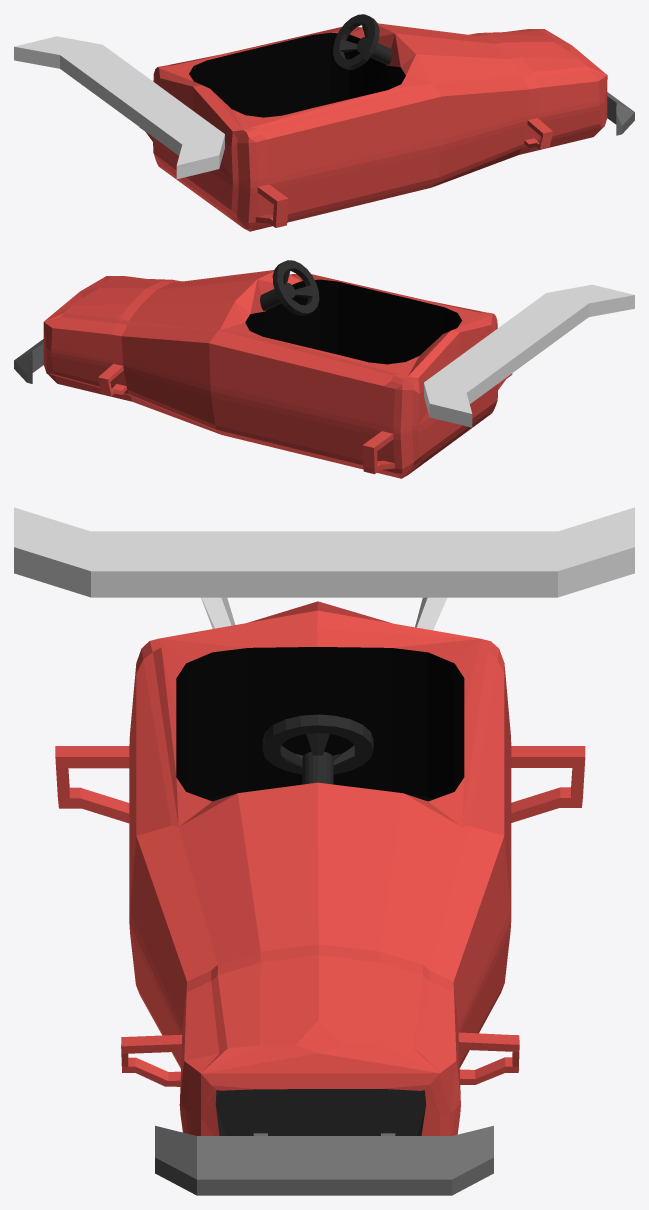
File: GoKart.fbx
3 renders of one model, top to bottom at view 1: azimuth 30°, elevation 25°; view 2: azimuth 150°, elevation 25°; view 3: azimuth 270°, elevation 25°, orthographic. The views are drawn at different scales.
Visible parts, largest first — view 1: Cube; view 2: Cube; view 3: Cube.
Part boxes in pixels (x1,y1,x2,y2): Cube: (14, 14, 634, 231); Cube: (14, 260, 634, 478); Cube: (14, 507, 634, 1195).
Bounding box in the file's own units: 160 × 44.04 × 89.06.
